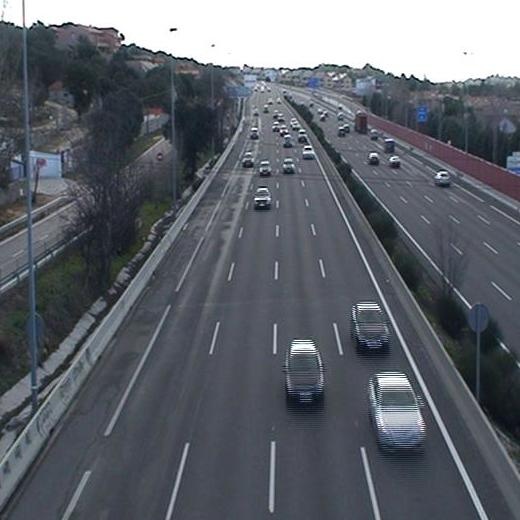car: (365, 370, 430, 452), (281, 337, 328, 404), (347, 300, 392, 353), (252, 185, 273, 209), (280, 156, 297, 174), (258, 158, 271, 177), (280, 132, 294, 148), (242, 151, 254, 168), (302, 144, 315, 159), (249, 127, 261, 139)
